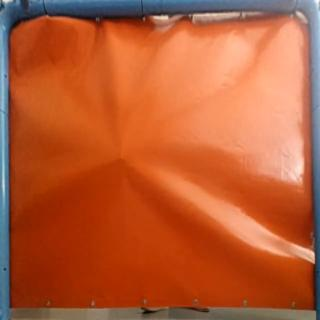Hit-hRxx: (114, 151, 130, 164)
